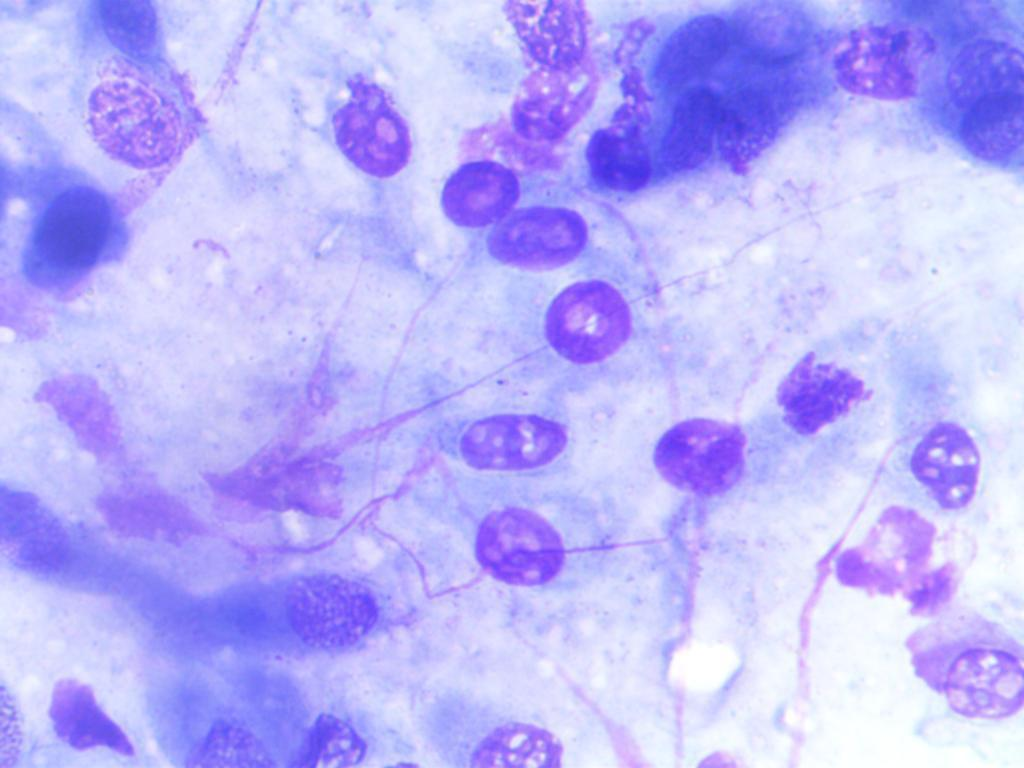artifact: (189, 380, 366, 548), (822, 485, 983, 625), (24, 355, 142, 468)
epithelial: (9, 173, 125, 298), (63, 66, 196, 175), (298, 69, 431, 178), (937, 18, 1024, 166), (6, 663, 133, 762), (533, 274, 648, 371), (454, 390, 569, 487), (637, 409, 752, 506), (906, 418, 1021, 515), (454, 499, 569, 596), (275, 565, 390, 662), (494, 50, 604, 150), (760, 350, 874, 443), (826, 17, 937, 112), (645, 87, 750, 182), (635, 9, 750, 93), (153, 692, 280, 768), (463, 694, 571, 768), (485, 1, 608, 63), (487, 207, 594, 274), (426, 153, 519, 226), (947, 642, 1024, 730), (590, 106, 658, 192), (298, 700, 372, 768)
